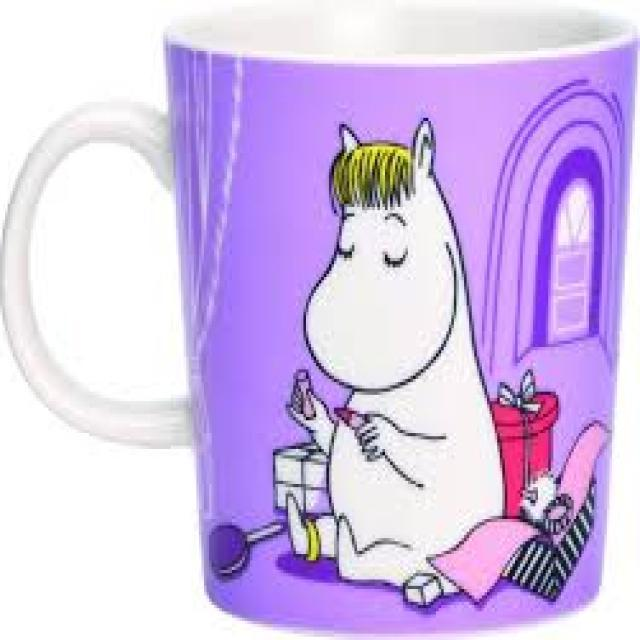Coffee Mug: (3, 6, 640, 635)
